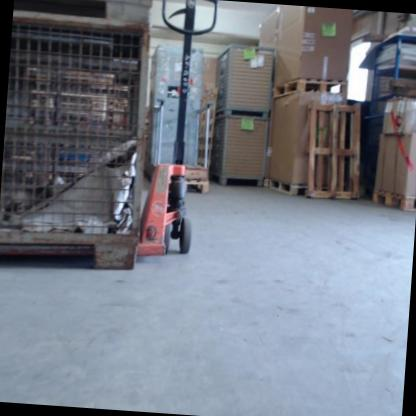pallet: (302, 101, 367, 202), (273, 74, 349, 105), (196, 86, 217, 175), (371, 188, 416, 214), (268, 176, 311, 199), (180, 178, 211, 197)
pallet_truck: (137, 0, 218, 262)
stillage: (0, 10, 154, 271), (211, 39, 284, 118), (214, 110, 275, 190), (14, 0, 155, 18)
